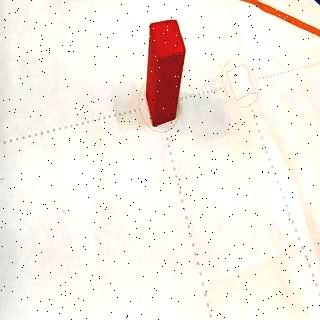redbox: (147, 18, 186, 126)
